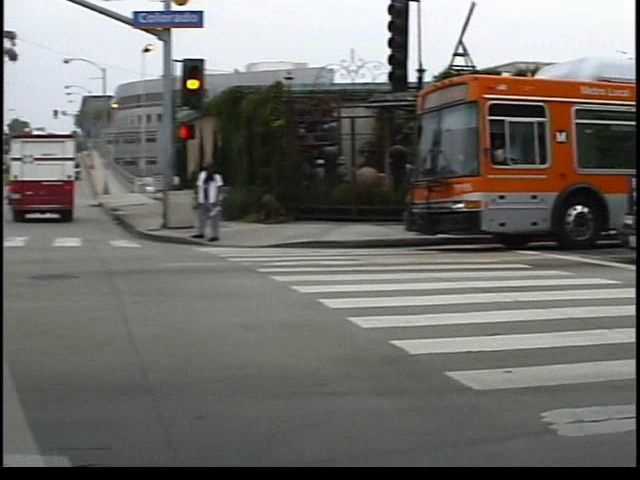person: (204, 156, 239, 245)
